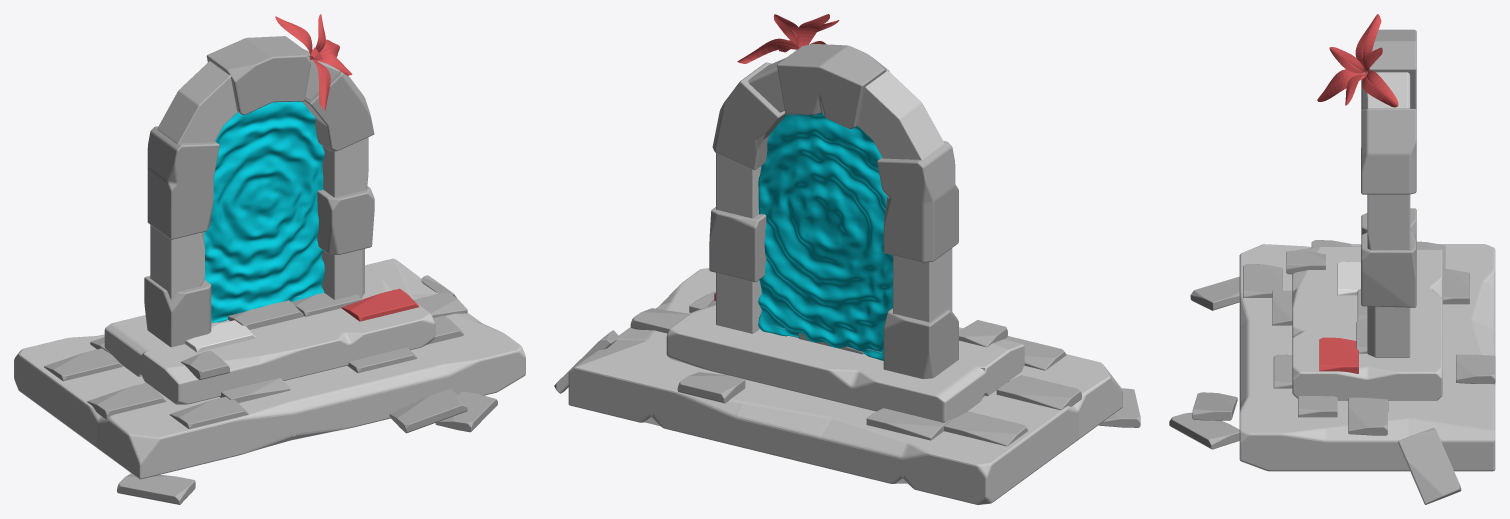
Rendered from portal.fbx.
3 views of the same model, side by side, from view 1: azimuth 30°, elevation 25°; view 2: azimuth 150°, elevation 25°; view 3: azimuth 270°, elevation 25° (orthographic). The views are drawn at different scales.
Parts seen in each view (by area): view 1: Plane.004, Plane.001, Plane.003, Plane.002, Plane, Cube.011, Plane.009, Cube.013, Cube.014, Cube.015, Cube.004, Cube (+8 smaller); view 2: Plane.004, Plane.003, Plane.001, Plane.002, Plane, Cube.014, Cube.015, Plane.009, Cube.017, Cube.016, Cube.004, Cube.007 (+2 smaller); view 3: Plane.004, Plane.002, Plane.001, Plane, Plane.009, Cube.010, Cube.012, Cube.007, Cube, Cube.004, Cube.017, Cube.011 (+8 smaller).
Boxes of the visible parts, <box> form: Plane.004: <box>14,258,525,479</box>; Plane.001: <box>144,36,374,347</box>; Plane.003: <box>204,101,324,323</box>; Plane.002: <box>104,265,435,404</box>; Plane: <box>150,49,368,299</box>; Cube.011: <box>389,388,467,433</box>; Plane.009: <box>275,14,352,110</box>; Cube.013: <box>117,473,195,504</box>; Cube.014: <box>87,383,166,419</box>; Cube.015: <box>44,348,122,381</box>; Cube.004: <box>169,396,248,428</box>; Cube: <box>341,288,419,321</box>; Plane.004: <box>568,268,1122,504</box>; Plane.003: <box>758,113,892,360</box>; Plane.001: <box>709,43,958,378</box>; Plane.002: <box>666,299,1024,422</box>; Plane: <box>716,58,952,333</box>; Cube.014: <box>996,375,1081,410</box>; Cube.015: <box>944,411,1027,446</box>; Plane.009: <box>737,14,839,63</box>; Cube.017: <box>677,372,745,403</box>; Cube.016: <box>866,408,950,440</box>; Cube.004: <box>1004,336,1066,370</box>; Cube.007: <box>630,308,688,333</box>; Plane.004: <box>1239,244,1495,471</box>; Plane.002: <box>1292,246,1442,400</box>; Plane.001: <box>1361,29,1416,307</box>; Plane: <box>1367,72,1410,357</box>; Plane.009: <box>1317,14,1398,107</box>; Cube.010: <box>1398,428,1461,504</box>; Cube.012: <box>1169,412,1239,449</box>; Cube.007: <box>1348,397,1388,435</box>; Cube: <box>1319,337,1358,373</box>; Cube.004: <box>1243,264,1282,297</box>; Cube.017: <box>1456,354,1495,384</box>; Cube.011: <box>1192,392,1237,420</box>.
Size of the model in its own units: 687 by 563 by 434.
